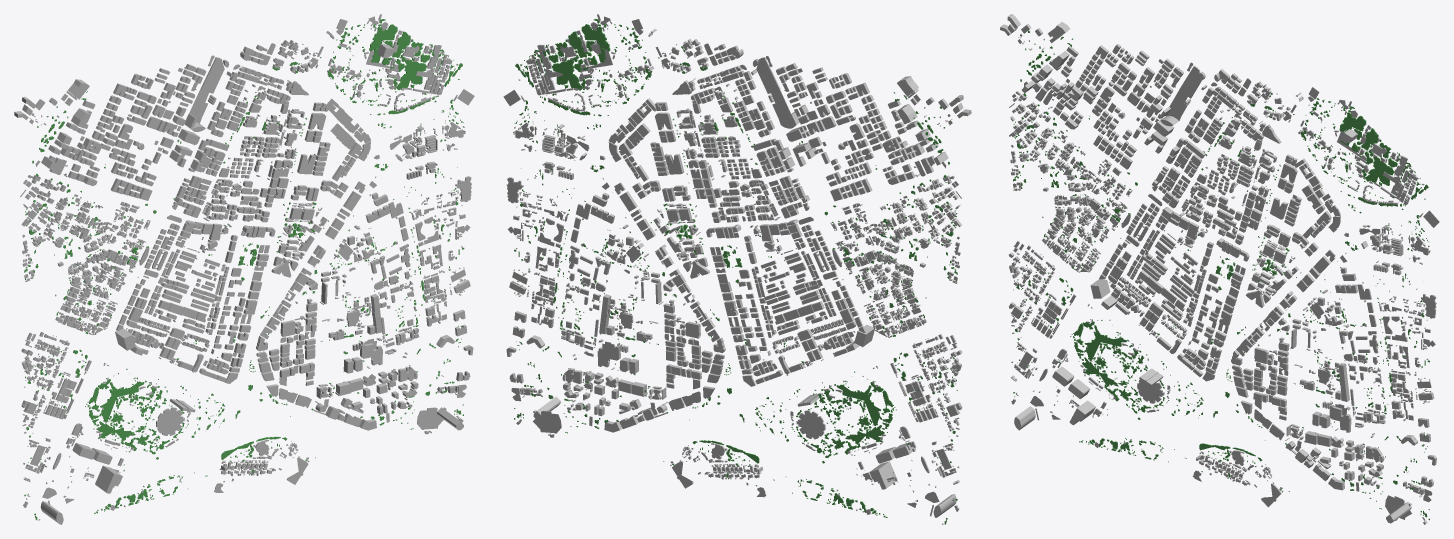
The model's file is al_karama.glb.
3 renders of one model, left to right at view 1: azimuth 30°, elevation 25°; view 2: azimuth 150°, elevation 25°; view 3: azimuth 330°, elevation 25°, orthographic. The views are drawn at different scales.
Visible parts, largest first — view 1: world; view 2: world; view 3: world.
Boxes of the visible parts, <box> form: world: <box>14,14,474,524</box>; world: <box>503,14,971,524</box>; world: <box>1000,14,1439,524</box>.
Bounding box in the file's own units: 3164 × 3012 × 230.
